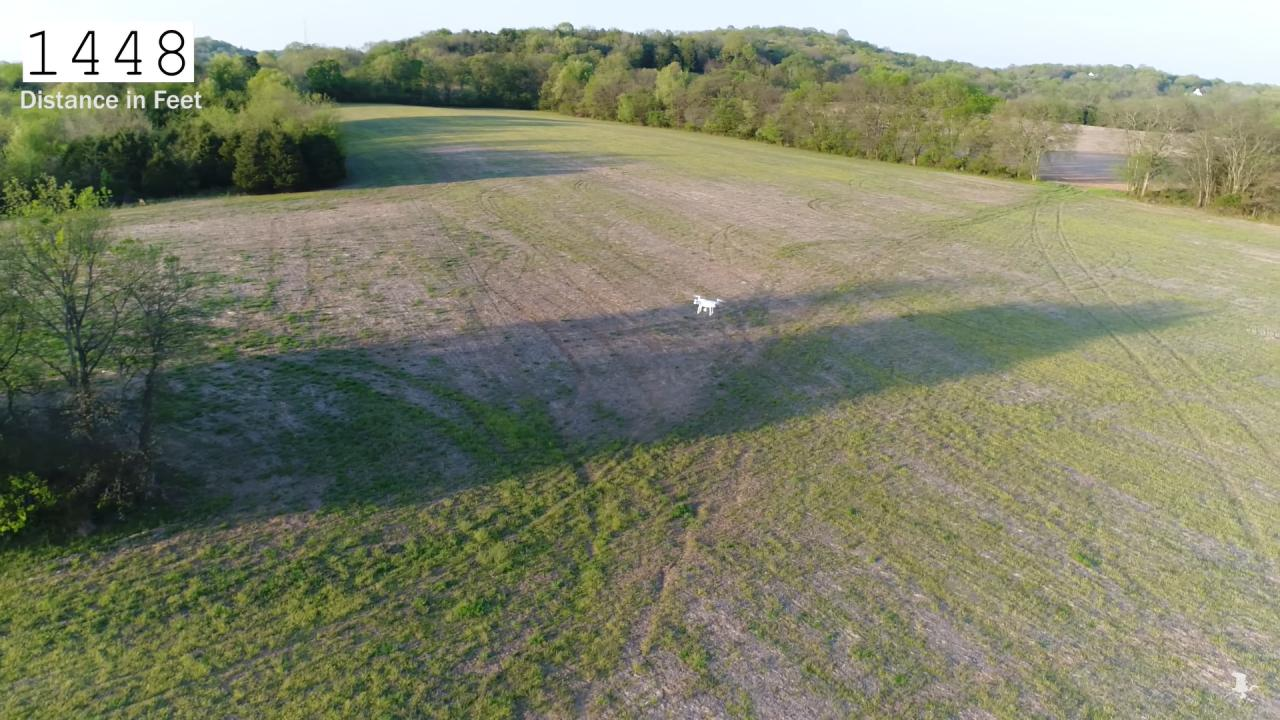Drone: (684, 286, 732, 326)
